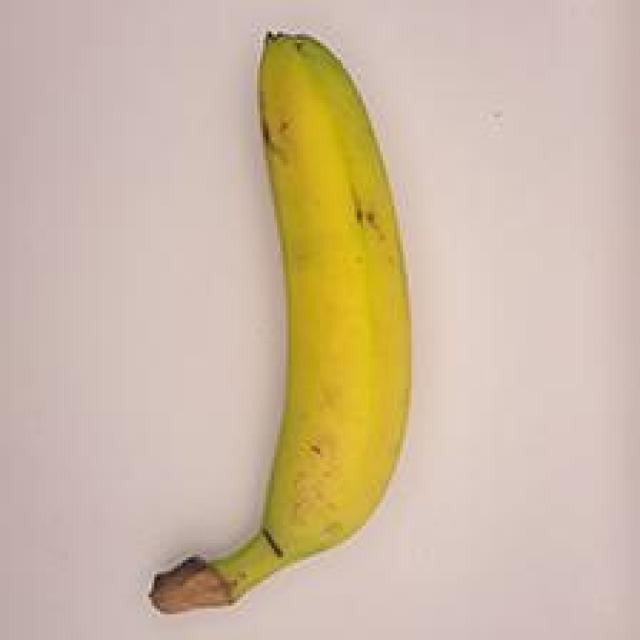unripe: (122, 17, 439, 625)
